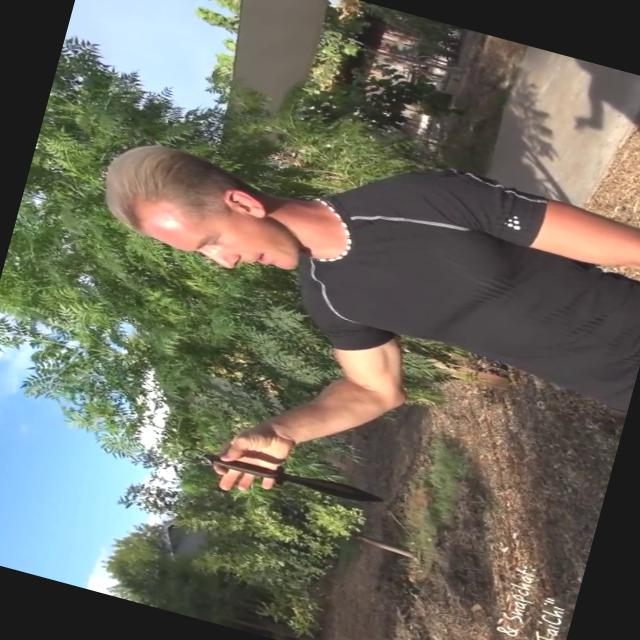knife: (167, 422, 385, 520)
